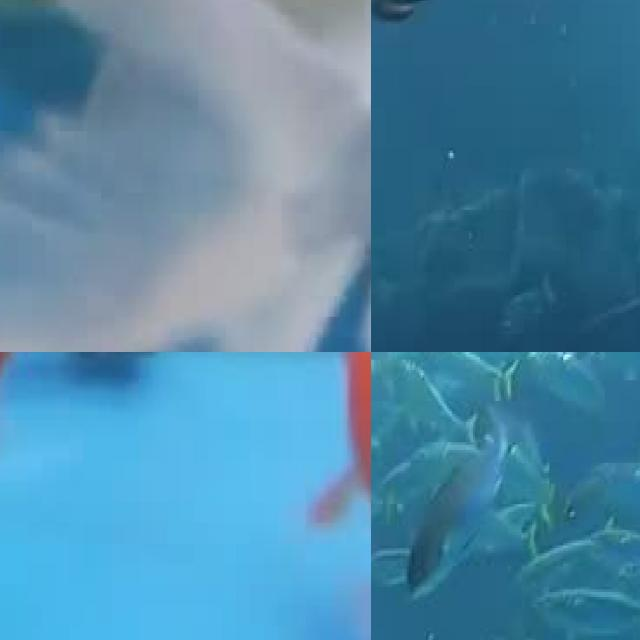fish: (0, 0, 371, 352), (0, 352, 87, 640)
